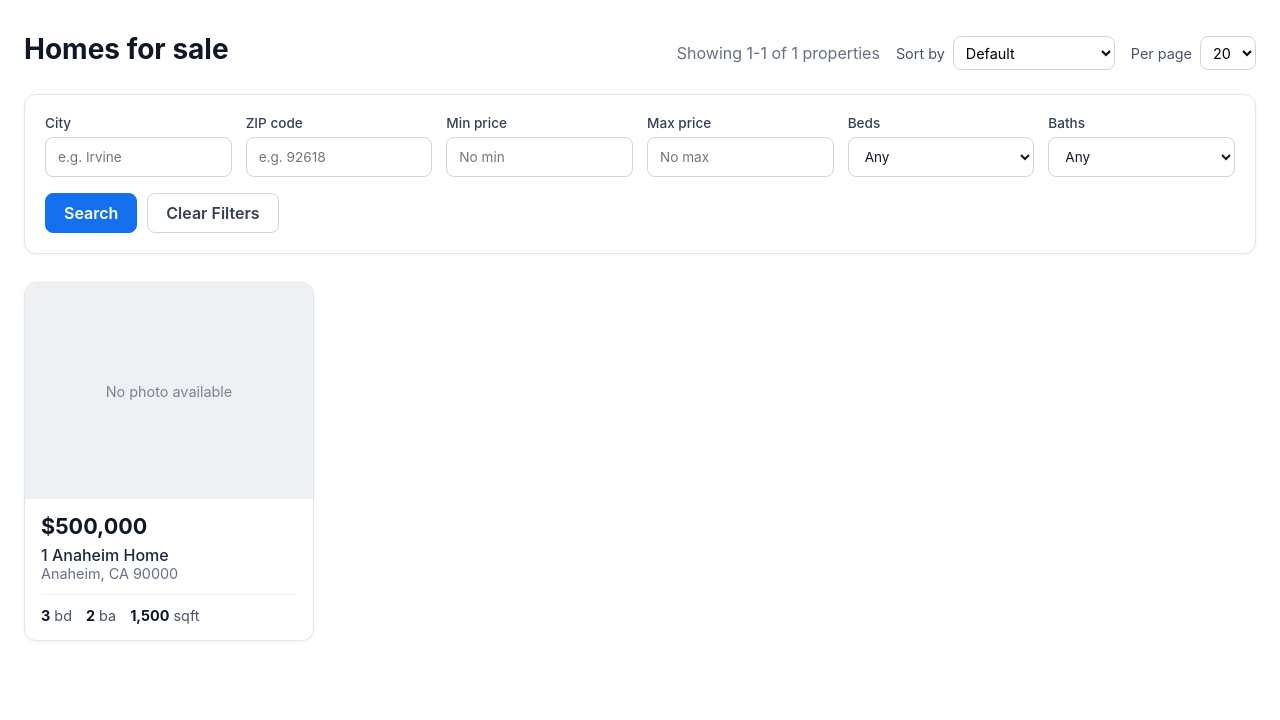
Test case: ListingsPage filters › shows a helpful message when nothing matches
In the field labelled "City": coordinates (138, 157) [45,137,232,177], type "Atlantis"
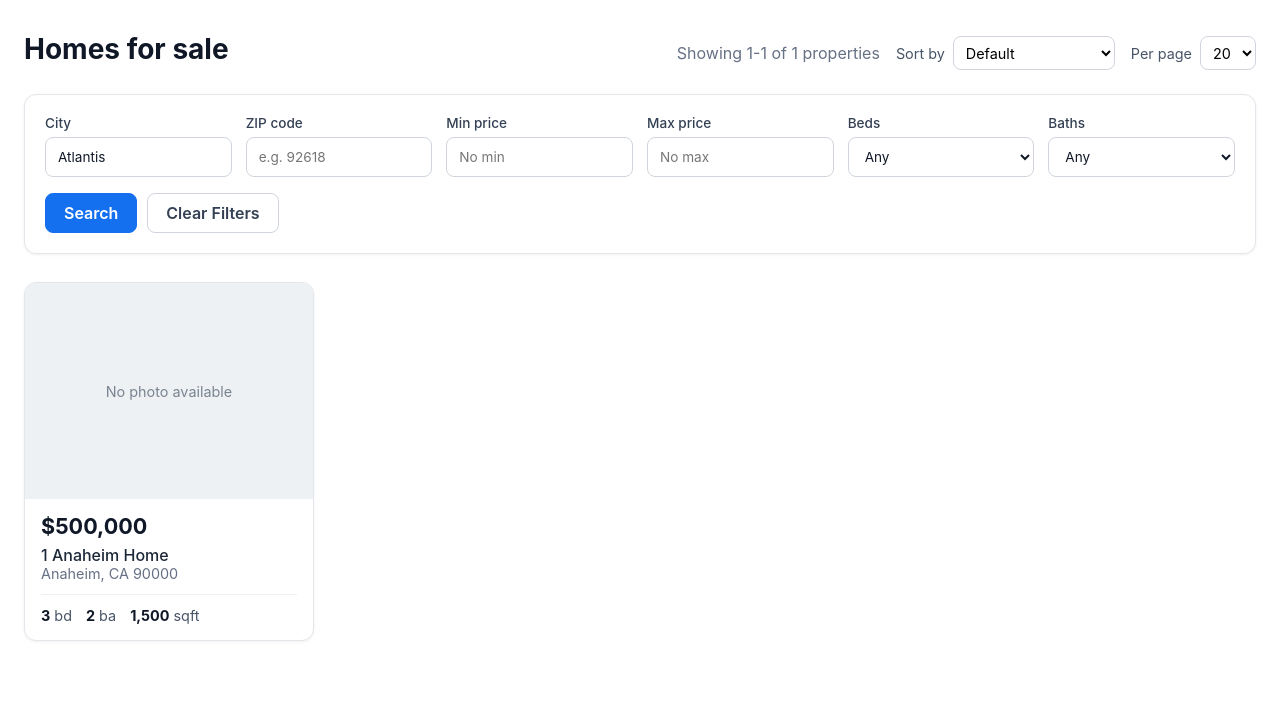
Click the button "Search": coordinates (91, 213) [45,193,137,233]
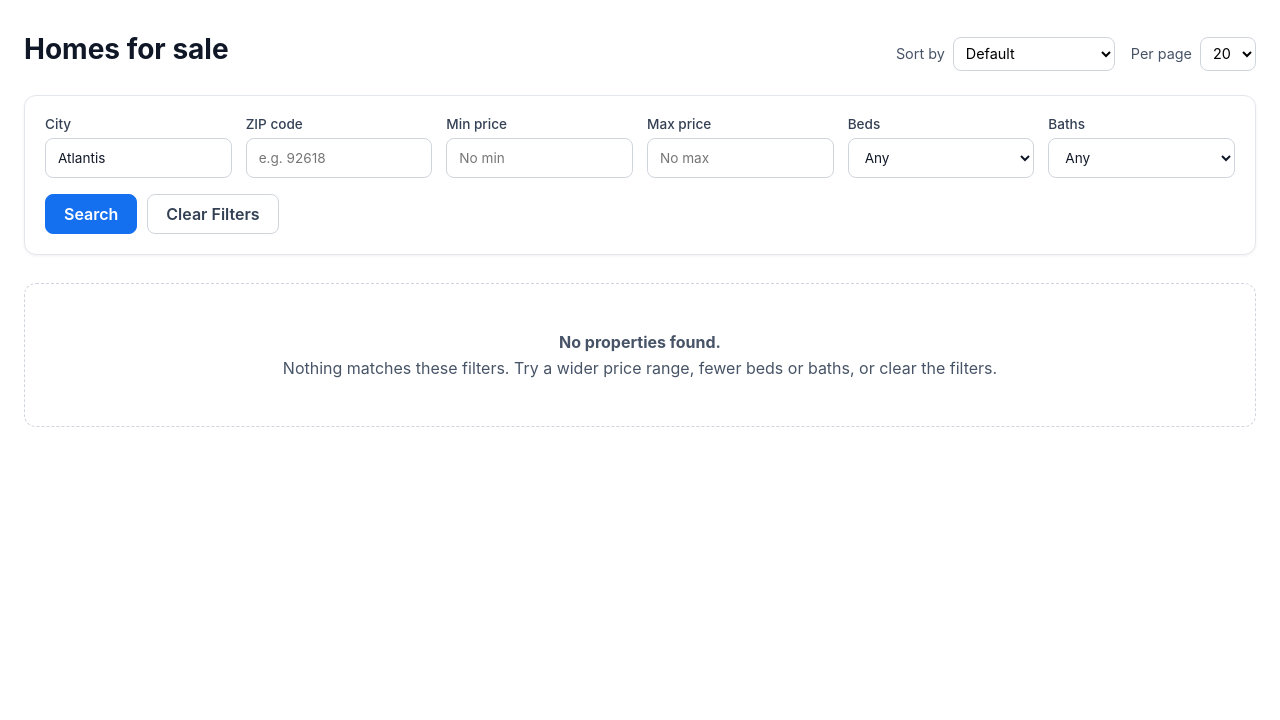
expect the text "No properties found." is shown: met, box [559,332,721,352]
expect the text "Nothing matches these filters" is shown: met, box [283,358,997,378]
